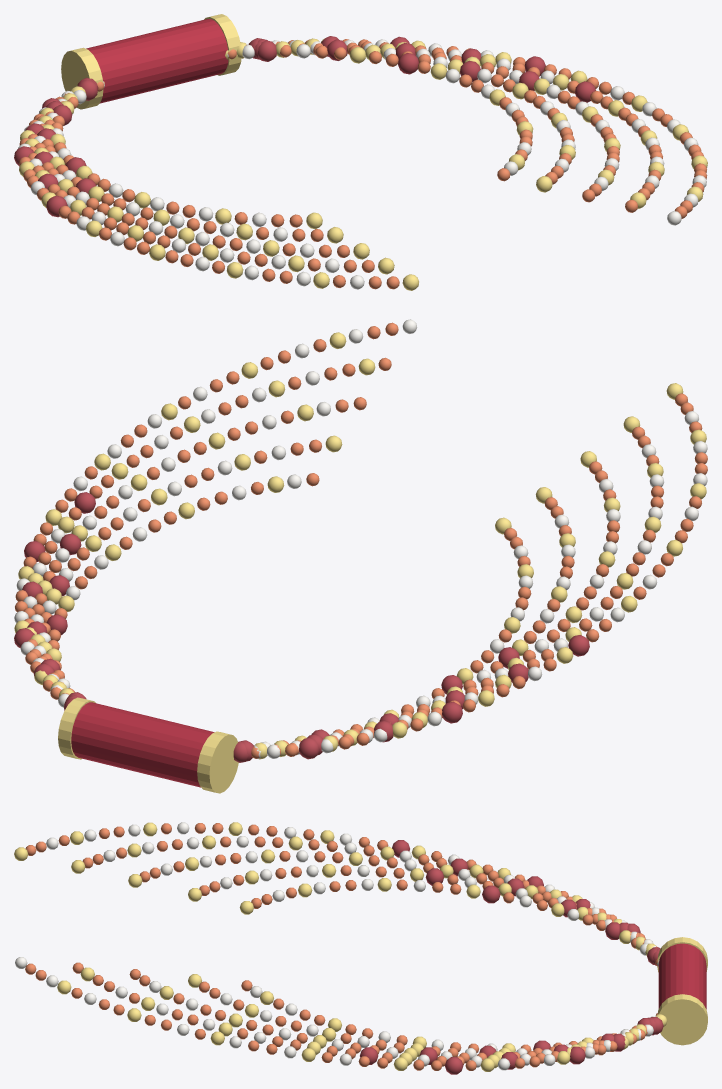
File: art-301.glb
The picture shows the model from 3 angles, top to bottom: view 1: azimuth 30°, elevation 25°; view 2: azimuth 150°, elevation 25°; view 3: azimuth 270°, elevation 25°; orthographic projection. The views are drawn at different scales.
Parts seen in each view (by area): view 1: Group_M_Corail_Verre, Group_M_Or_Poli, Group_M_Perle_Nacree, Fermoir_Velours, Group_M_Perle_Focale_Bordeaux, Cylinder, Cylinder.001; view 2: Group_M_Corail_Verre, Group_M_Or_Poli, Group_M_Perle_Nacree, Fermoir_Velours, Group_M_Perle_Focale_Bordeaux, Cylinder, Cylinder.001; view 3: Group_M_Corail_Verre, Group_M_Or_Poli, Group_M_Perle_Nacree, Group_M_Perle_Focale_Bordeaux, Fermoir_Velours, Cylinder.001, Cylinder.
Part boxes in pixels (x1,y1,x2,y2): Group_M_Corail_Verre: [19, 39, 707, 289]; Group_M_Or_Poli: [19, 38, 707, 290]; Group_M_Perle_Nacree: [18, 39, 706, 289]; Fermoir_Velours: [86, 19, 228, 103]; Group_M_Perle_Focale_Bordeaux: [14, 36, 595, 217]; Cylinder: [61, 47, 103, 109]; Cylinder.001: [204, 14, 241, 75]; Group_M_Corail_Verre: [15, 322, 707, 758]; Group_M_Or_Poli: [14, 332, 706, 759]; Group_M_Perle_Nacree: [14, 319, 707, 758]; Fermoir_Velours: [71, 702, 214, 787]; Group_M_Perle_Focale_Bordeaux: [14, 492, 589, 762]; Cylinder: [197, 731, 238, 793]; Cylinder.001: [58, 697, 95, 759]; Group_M_Corail_Verre: [25, 823, 658, 1070]; Group_M_Or_Poli: [14, 822, 667, 1071]; Group_M_Perle_Nacree: [15, 822, 659, 1070]; Group_M_Perle_Focale_Bordeaux: [360, 840, 663, 1074]; Fermoir_Velours: [658, 943, 706, 1009]; Cylinder.001: [658, 994, 707, 1045]; Cylinder: [657, 937, 707, 972].
Bounding box in the file's own units: 0.3569 × 0.0826 × 0.4627.
